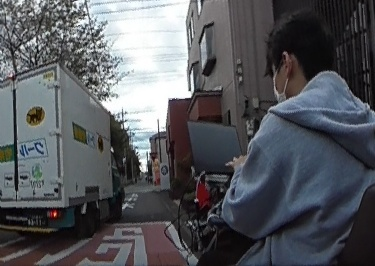person: (232, 11, 375, 265)
